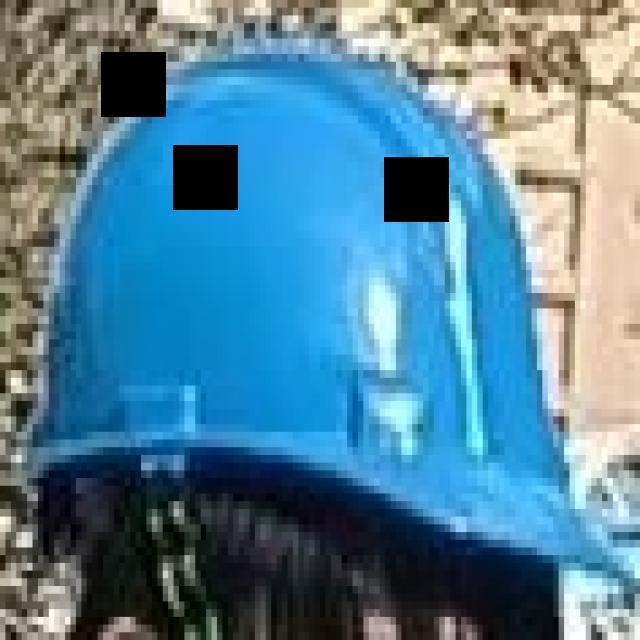blue helmet: (8, 32, 640, 599)
